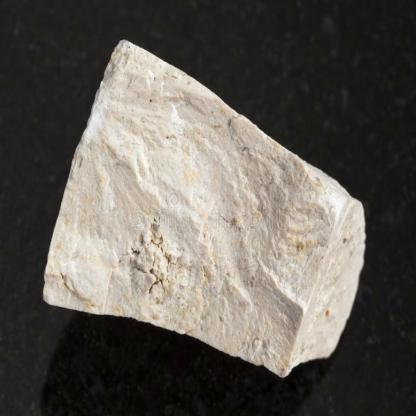Sedimentary_Limestone: (30, 36, 372, 382)
